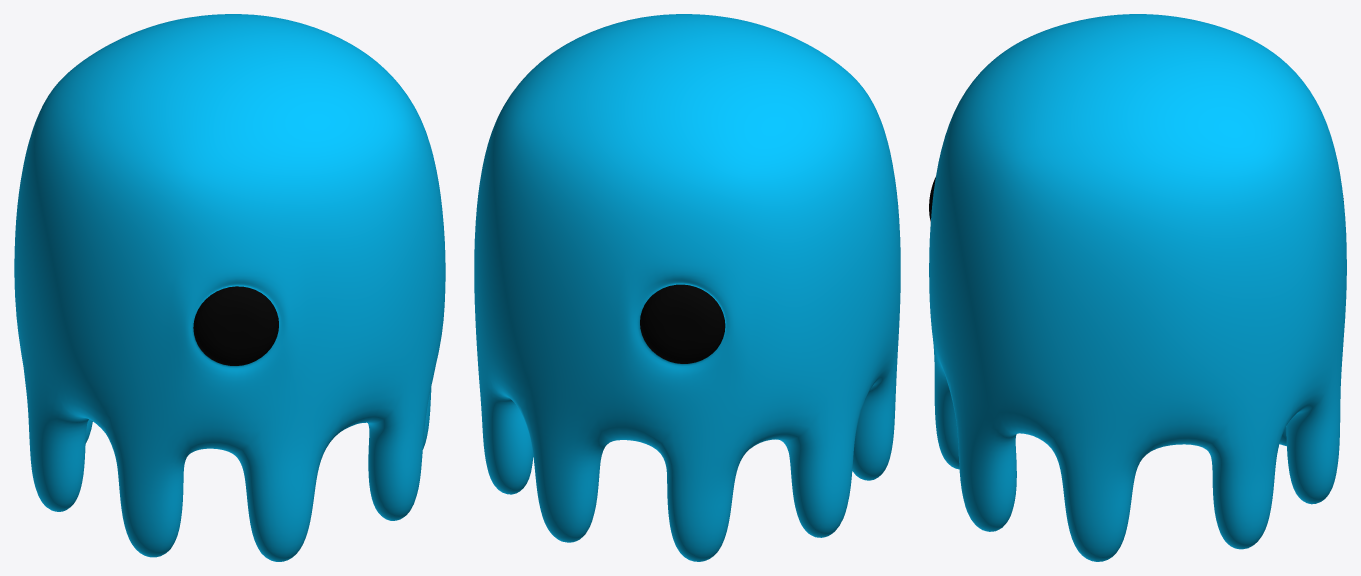
Rendered from Slimee.fbx.
3 views of the same model, side by side, from view 1: azimuth 30°, elevation 25°; view 2: azimuth 150°, elevation 25°; view 3: azimuth 270°, elevation 25° (orthographic).
Visible parts, largest first — view 1: Box004; view 2: Box004; view 3: Box004.
Part boxes in pixels (bbox=[...]): Box004: bbox=[14, 14, 445, 561]; Box004: bbox=[474, 14, 900, 561]; Box004: bbox=[929, 14, 1346, 561].
Size of the model in its own units: 782 by 907 by 771.
